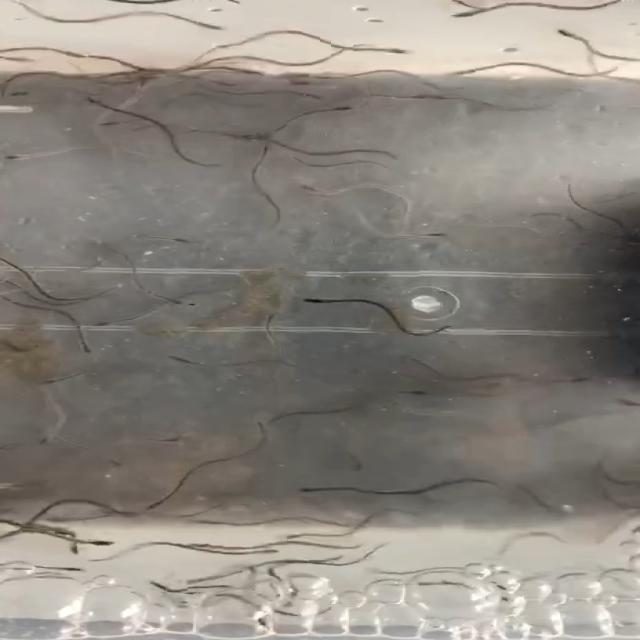active_glass_eel: (283, 174, 332, 203), (27, 429, 82, 450), (82, 311, 138, 331), (78, 530, 134, 550), (409, 224, 455, 248), (284, 287, 330, 309), (153, 224, 201, 245), (145, 350, 200, 368), (218, 57, 268, 76), (52, 560, 98, 580), (0, 150, 51, 168), (193, 20, 238, 40), (77, 88, 114, 112), (246, 307, 294, 325), (282, 474, 322, 495), (122, 492, 166, 511), (372, 46, 427, 61), (268, 526, 318, 542), (442, 9, 488, 26), (309, 101, 355, 118), (388, 384, 430, 402), (94, 116, 141, 132), (532, 25, 585, 39), (233, 542, 286, 556), (148, 293, 193, 308), (284, 70, 317, 90), (438, 68, 471, 85), (30, 375, 65, 387)
